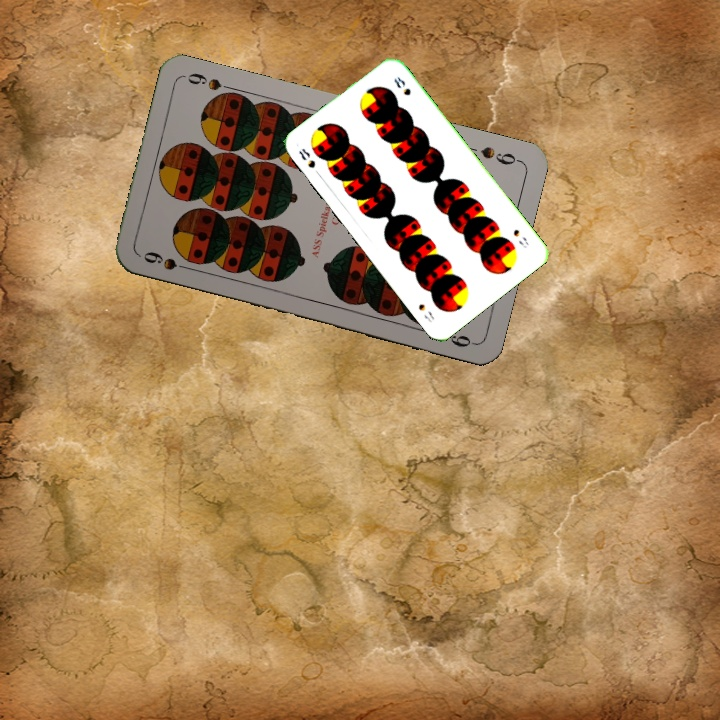S8: (295, 144, 318, 171), (509, 225, 531, 251)
S9: (139, 247, 196, 274), (476, 142, 523, 168)
